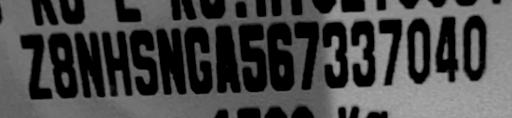letter: (19, 32, 53, 99), (73, 30, 105, 98), (101, 30, 133, 96), (48, 31, 78, 99), (212, 25, 242, 91), (183, 26, 213, 92), (156, 28, 186, 94), (320, 19, 348, 89), (292, 20, 320, 90), (460, 12, 488, 80), (376, 18, 404, 86), (238, 24, 266, 92), (266, 23, 294, 89), (130, 29, 158, 95), (433, 13, 459, 84), (350, 19, 376, 86), (406, 18, 430, 86)
